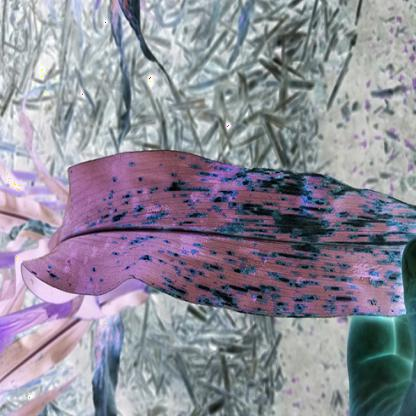Corn Gray leaf spot: (22, 148, 403, 317)
